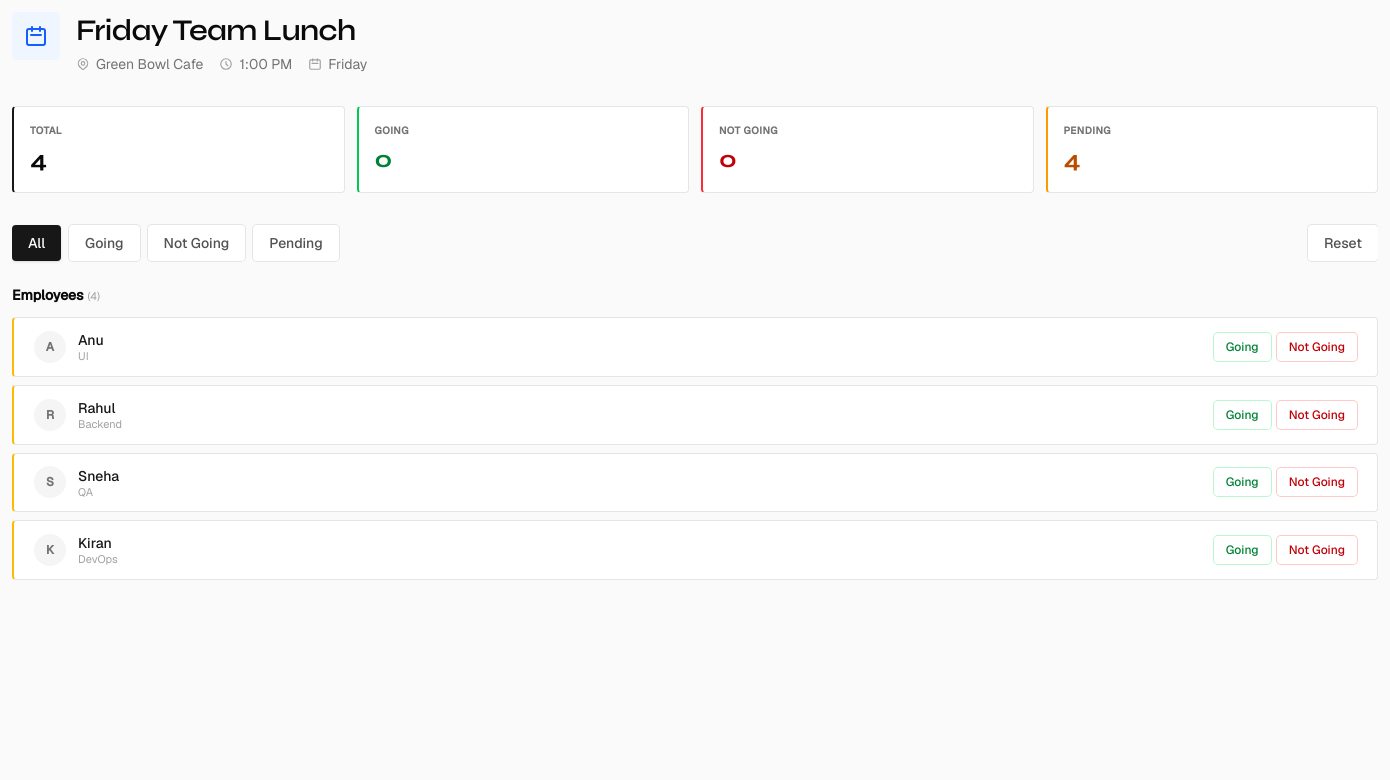
Test: Conditional Rendering › shows empty state when no employees match filter
This screenshot has width=1390, height=780.
Click the 1st button "Going".
click(104, 243)  # box [69, 225, 140, 261]
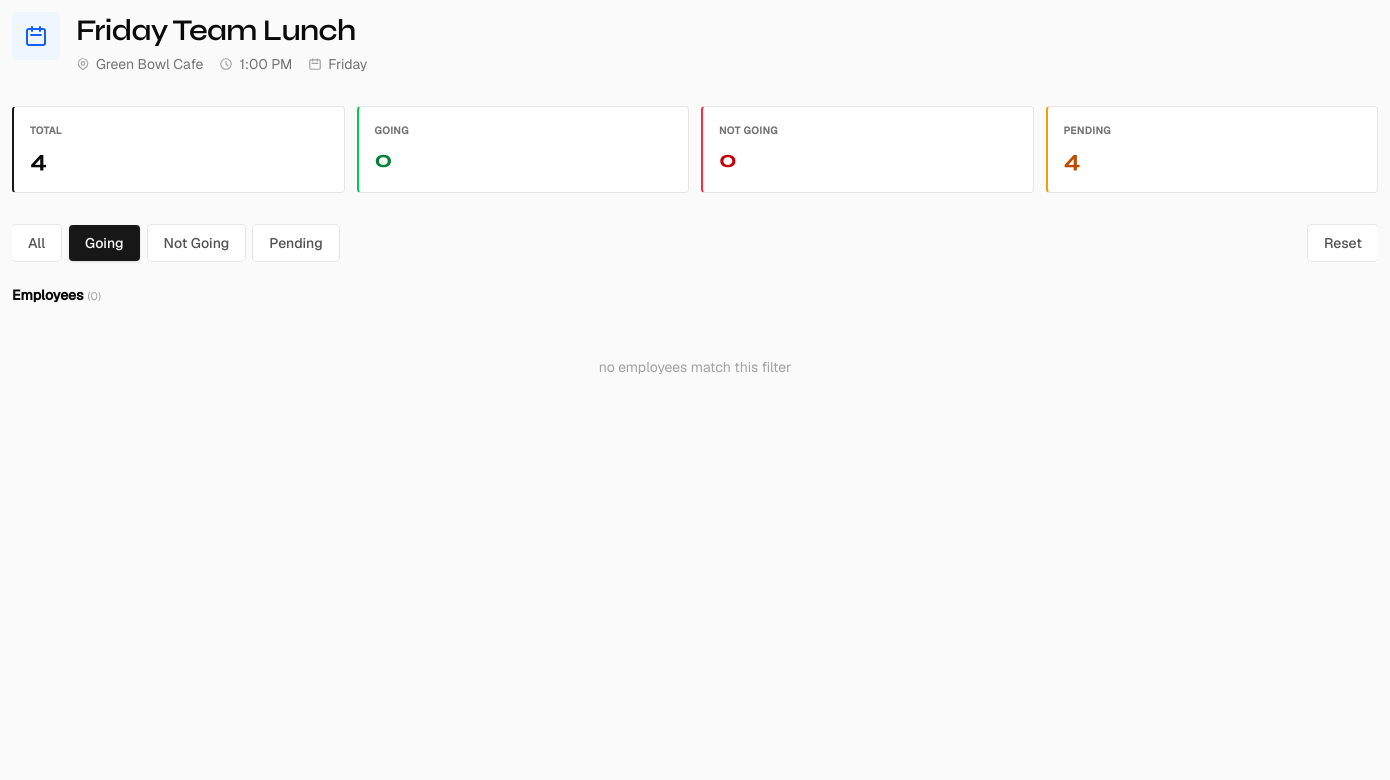
Result: the text "no employees match this filter" is shown at [599, 358, 791, 376]
